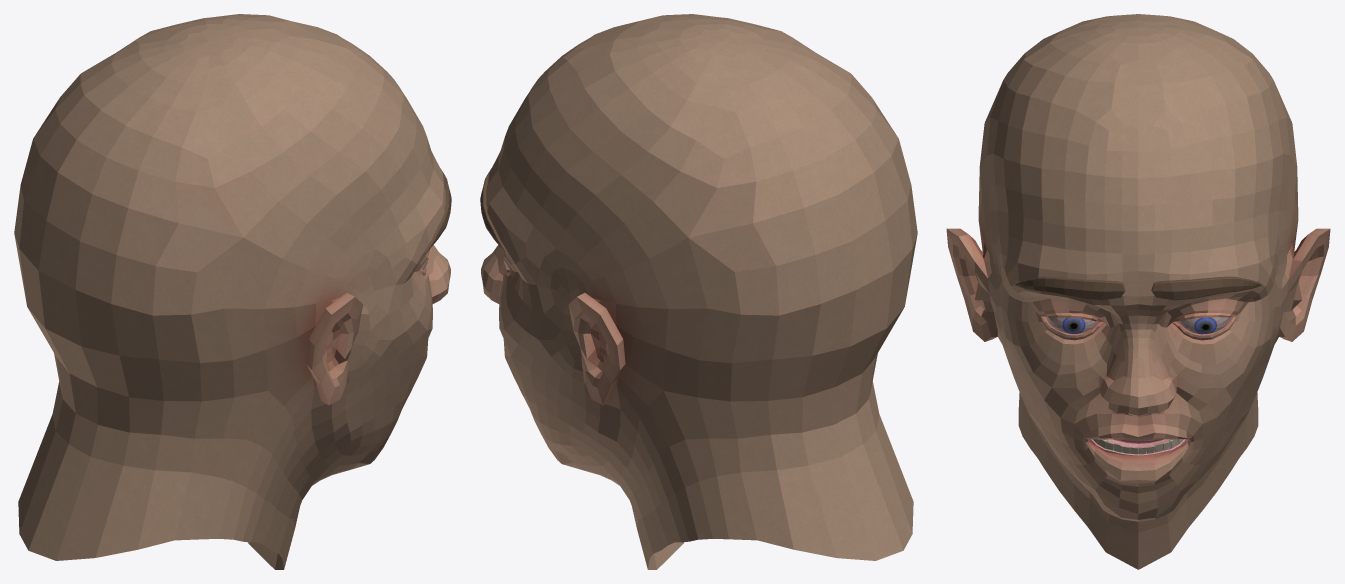
File: headFin_compressed.glb
3 renders of one model, left to right at view 1: azimuth 30°, elevation 25°; view 2: azimuth 150°, elevation 25°; view 3: azimuth 270°, elevation 25°, orthographic. The views are drawn at different scales.
Parts seen in each view (by area): view 1: polySurface1:PIV; view 2: polySurface1:PIV; view 3: polySurface1:PIV.
Part boxes in pixels (box(x1,y1,x2,y2)): polySurface1:PIV: box(14, 14, 451, 569); polySurface1:PIV: box(480, 14, 917, 569); polySurface1:PIV: box(946, 14, 1330, 569).
Bounding box in the file's own units: 45.09 × 55.69 × 37.71.
2 materials, 2 textured.
